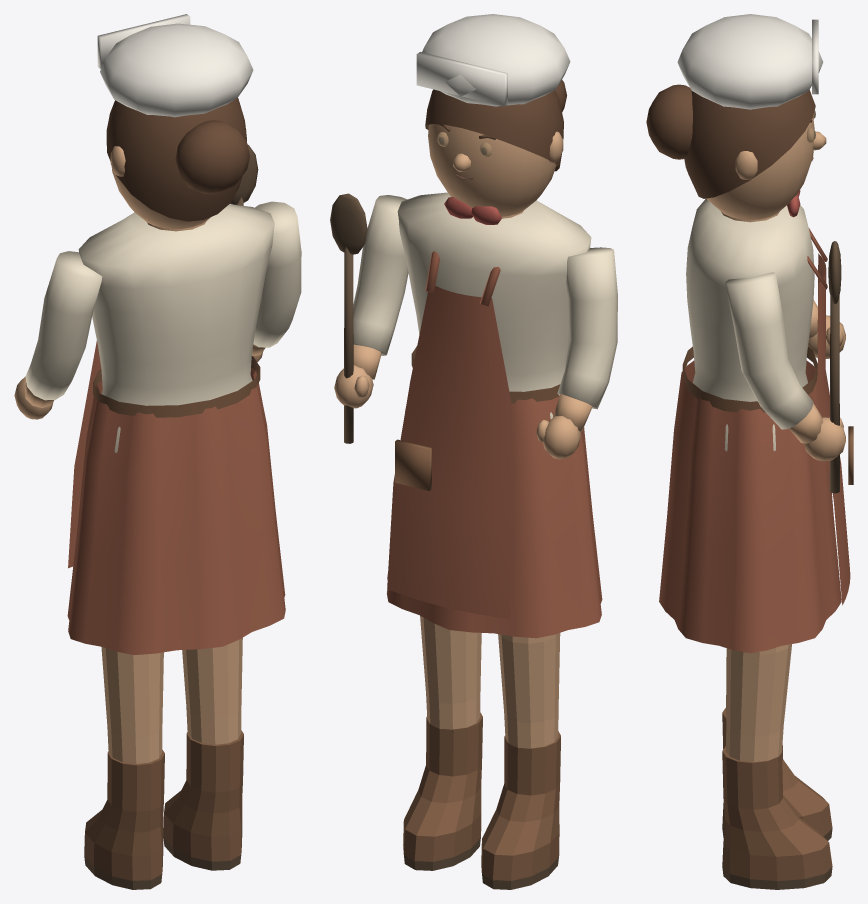
The model's file is SM_NPC_CHEF.glb.
3 renders of one model, left to right at view 1: azimuth 30°, elevation 25°; view 2: azimuth 150°, elevation 25°; view 3: azimuth 270°, elevation 25°, orthographic.
Parts seen in each view (by area): view 1: SM_NPC_CHEF_BODY, SM_NPC_CHEF_HAIR, SM_NPC_CHEF_LEG_L, SM_NPC_CHEF_LEG_R, SM_NPC_CHEF_ARM_L, SM_NPC_CHEF_ARM_R, SM_NPC_CHEF_HEAD; view 2: SM_NPC_CHEF_BODY, SM_NPC_CHEF_HAIR, SM_NPC_CHEF_LEG_L, SM_NPC_CHEF_LEG_R, SM_NPC_CHEF_ARM_R, SM_NPC_CHEF_ARM_L, SM_NPC_CHEF_HEAD; view 3: SM_NPC_CHEF_BODY, SM_NPC_CHEF_HAIR, SM_NPC_CHEF_LEG_R, SM_NPC_CHEF_ARM_R, SM_NPC_CHEF_HEAD, SM_NPC_CHEF_LEG_L, SM_NPC_CHEF_ARM_L.
Part boxes in pixels (x1=…): SM_NPC_CHEF_BODY: x1=67, y1=204, x2=285, y2=655; SM_NPC_CHEF_HAIR: x1=97, y1=14, x2=253, y2=221; SM_NPC_CHEF_LEG_L: x1=84, y1=646, x2=164, y2=889; SM_NPC_CHEF_LEG_R: x1=163, y1=637, x2=243, y2=870; SM_NPC_CHEF_ARM_L: x1=14, y1=251, x2=102, y2=419; SM_NPC_CHEF_ARM_R: x1=230, y1=145, x2=301, y2=362; SM_NPC_CHEF_HEAD: x1=110, y1=129, x2=246, y2=228; SM_NPC_CHEF_BODY: x1=386, y1=192, x2=602, y2=638; SM_NPC_CHEF_HAIR: x1=416, y1=14, x2=570, y2=171; SM_NPC_CHEF_LEG_L: x1=481, y1=633, x2=560, y2=889; SM_NPC_CHEF_LEG_R: x1=403, y1=615, x2=482, y2=870; SM_NPC_CHEF_ARM_R: x1=330, y1=193, x2=408, y2=443; SM_NPC_CHEF_ARM_L: x1=536, y1=247, x2=617, y2=459; SM_NPC_CHEF_HEAD: x1=428, y1=124, x2=563, y2=216; SM_NPC_CHEF_BODY: x1=659, y1=190, x2=853, y2=653; SM_NPC_CHEF_HAIR: x1=646, y1=14, x2=823, y2=198; SM_NPC_CHEF_LEG_R: x1=722, y1=644, x2=832, y2=889; SM_NPC_CHEF_ARM_R: x1=725, y1=241, x2=845, y2=493; SM_NPC_CHEF_HEAD: x1=707, y1=117, x2=826, y2=219; SM_NPC_CHEF_LEG_L: x1=722, y1=657, x2=832, y2=840; SM_NPC_CHEF_ARM_L: x1=808, y1=300, x2=845, y2=358.
Size of the model in its own units: 0.6008 by 1.86 by 0.4214.
